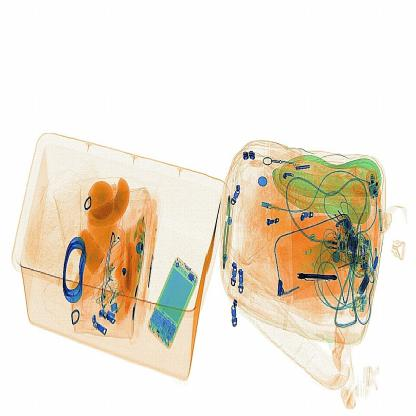knife: (298, 270, 342, 289)
